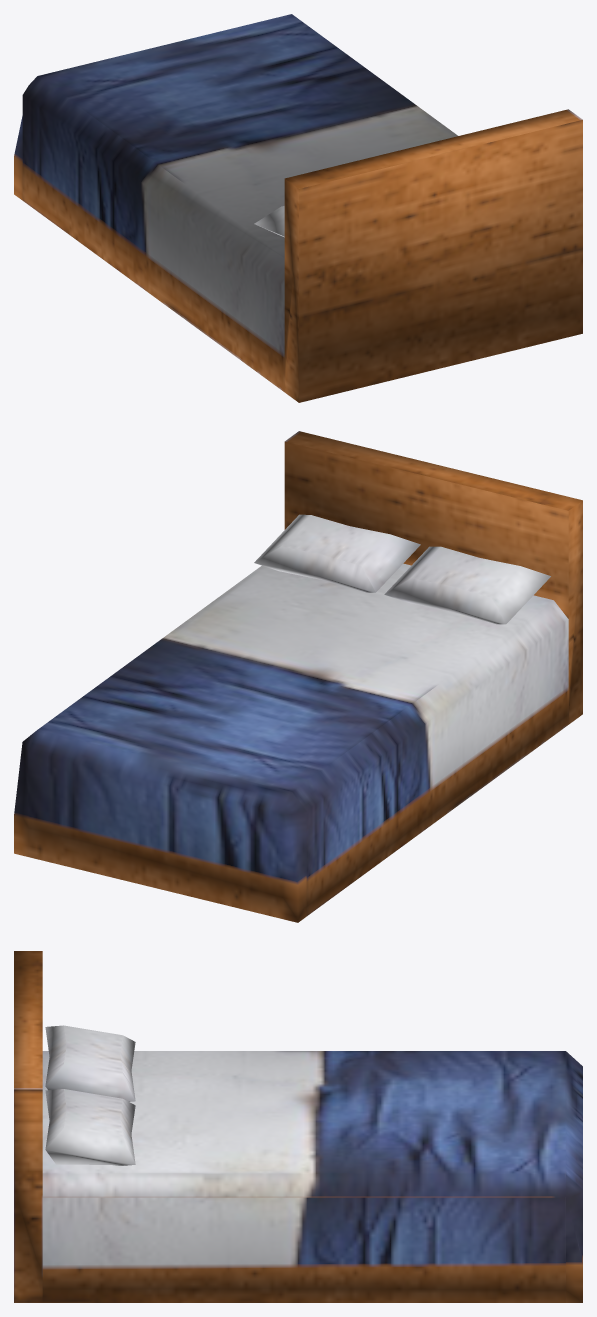
File: Mansion_Bed1.fbx
3 views of the same model, one above another, from view 1: azimuth 30°, elevation 25°; view 2: azimuth 150°, elevation 25°; view 3: azimuth 270°, elevation 25° (orthographic).
Visible parts, largest first — view 1: Bed; view 2: Bed; view 3: Bed.
Part boxes in pixels (x1=…): Bed: x1=14, y1=14, x2=582, y2=402; Bed: x1=14, y1=431, x2=582, y2=922; Bed: x1=14, y1=951, x2=582, y2=1302.
Bounding box in the file's own units: 156 × 112 × 271.
1 material, 1 textured.
